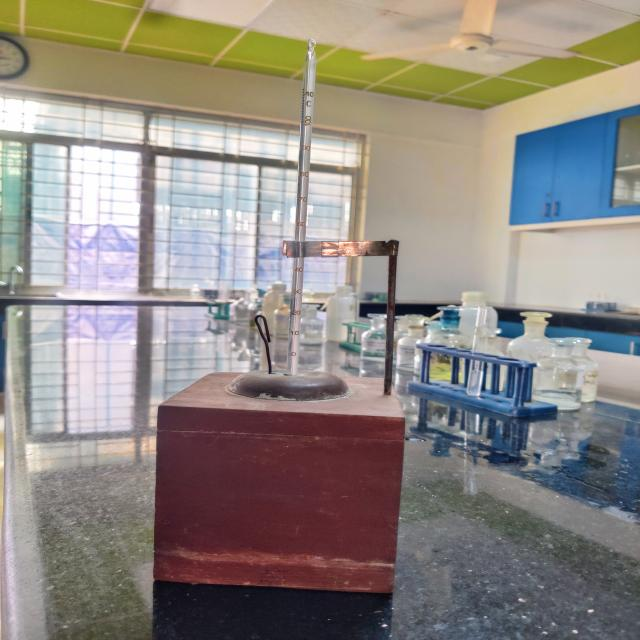Calorimeter: (107, 14, 456, 640)
